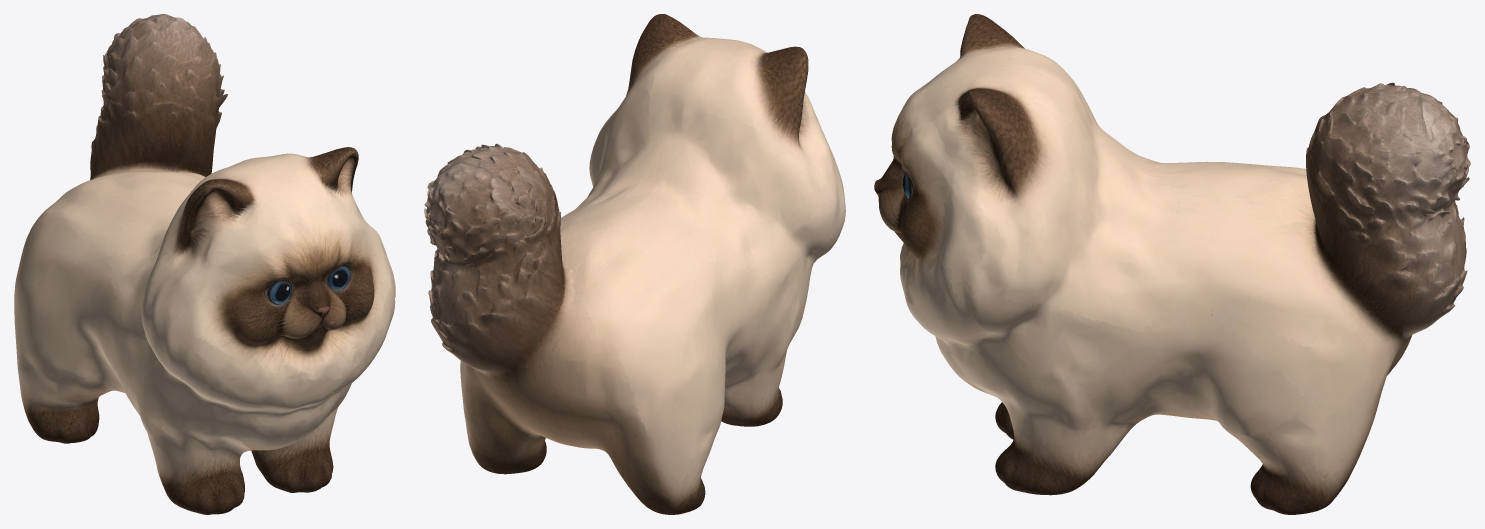
File: meshy-persian.glb
3 renders of one model, left to right at view 1: azimuth 30°, elevation 25°; view 2: azimuth 150°, elevation 25°; view 3: azimuth 270°, elevation 25°, orthographic. The views are drawn at different scales.
Parts seen in each view (by area): view 1: Mesh_0; view 2: Mesh_0; view 3: Mesh_0.
Part boxes in pixels (<box>): Mesh_0: <box>14,14,395,514</box>; Mesh_0: <box>424,14,845,514</box>; Mesh_0: <box>874,14,1470,514</box>.
Size of the model in its own units: 0.9739 by 1.39 by 1.86.
1 material, 1 textured.
